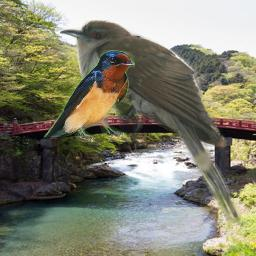Cuckoo: (60, 20, 241, 226)
Swallow: (43, 50, 135, 142)
